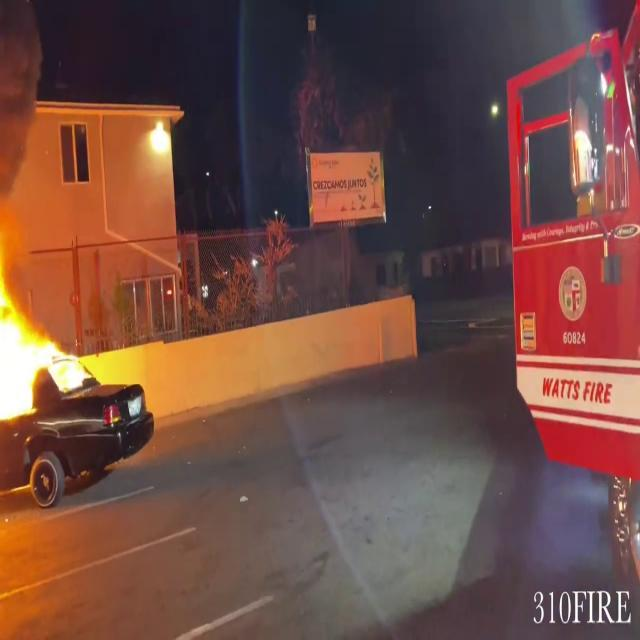Fire: (0, 215, 91, 430)
Smoke: (0, 2, 51, 245)
